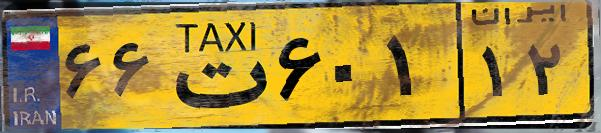0: (330, 28, 385, 110)
1: (385, 28, 445, 110), (475, 38, 525, 113)
2: (525, 38, 570, 115)
6: (270, 28, 330, 110), (57, 26, 110, 100), (110, 28, 158, 98)
ت: (158, 12, 270, 120)
